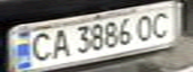3: (72, 22, 90, 55)
6: (115, 16, 139, 46)
8: (87, 21, 109, 52), (103, 18, 124, 48)
A: (48, 27, 72, 60)
C: (24, 28, 57, 64), (145, 7, 181, 38)
O: (130, 11, 160, 43)
